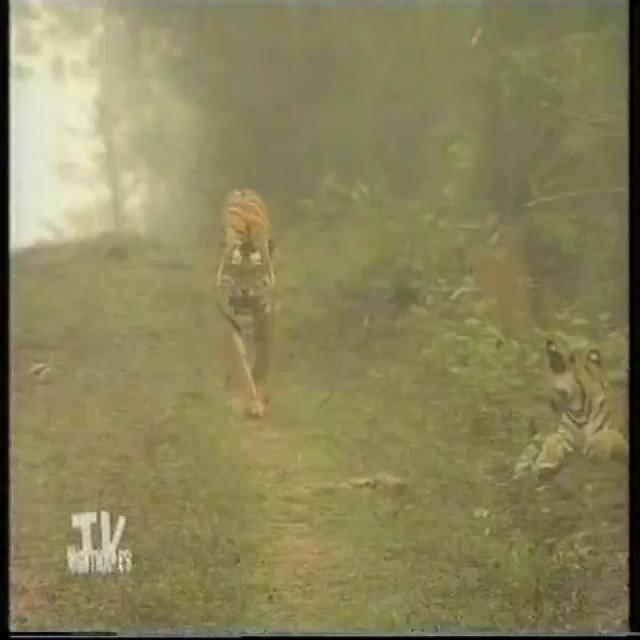TIGER: (212, 176, 292, 426), (530, 332, 624, 501)
